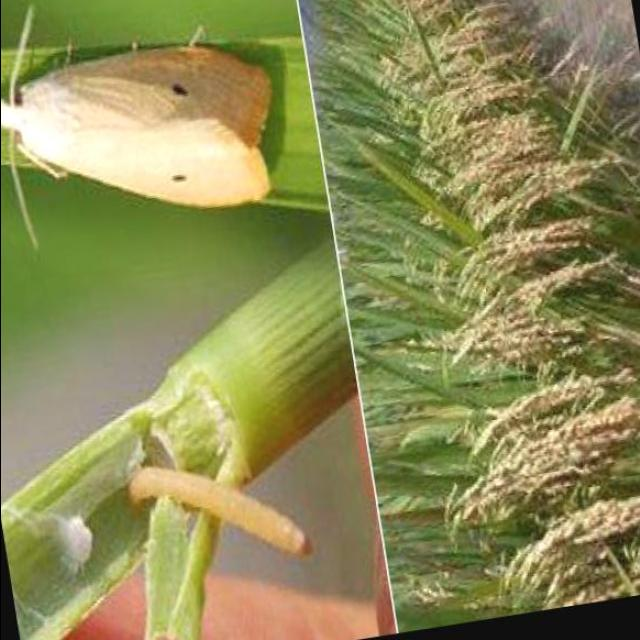stem borer: (0, 7, 271, 249), (129, 465, 306, 553)
